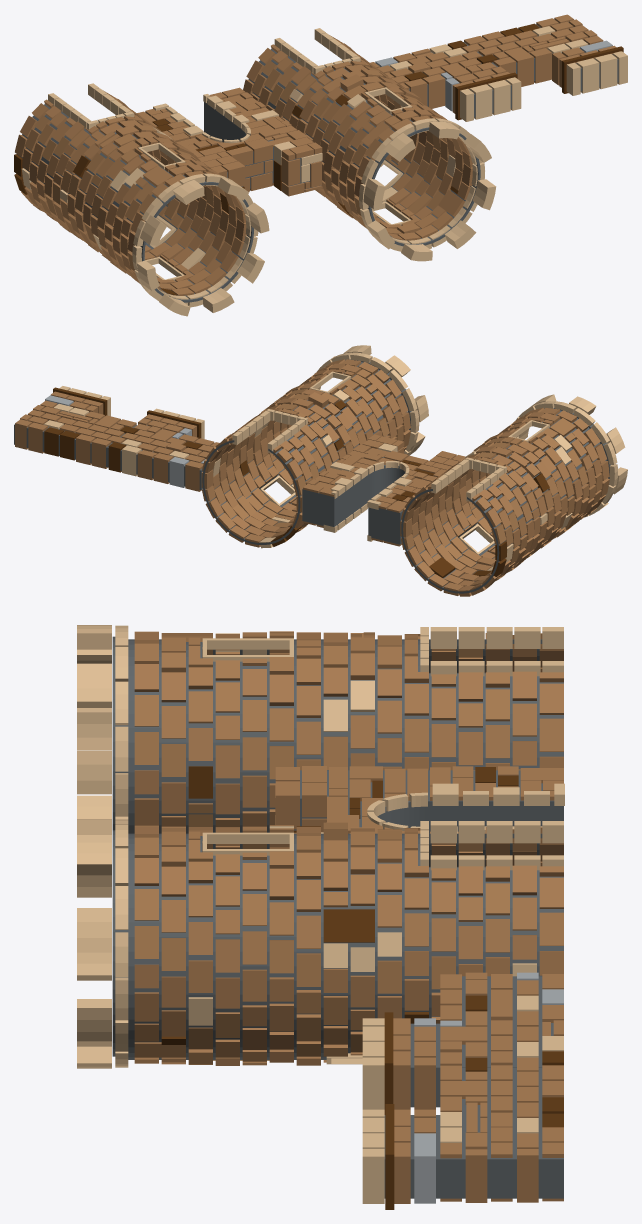
The model's file is tinker.obj.
3 views of the same model, one above another, from view 1: azimuth 30°, elevation 25°; view 2: azimuth 150°, elevation 25°; view 3: azimuth 270°, elevation 25° (orthographic). The views are drawn at different scales.
Visible parts, largest first — view 1: group_0_11107152, group_0_14860437, group_0_6383466, group_0_6306067, group_0_10988977; view 2: group_0_11107152, group_0_14860437, group_0_6383466, group_0_6306067, group_0_10988977; view 3: group_0_11107152, group_0_14860437, group_0_6383466, group_0_6306067, group_0_10988977.
Boxes of the visible parts, x1,y1,x2,y2 form: group_0_11107152: (15,14,619,295); group_0_14860437: (21,26,627,316); group_0_6383466: (17,22,618,302); group_0_6306067: (14,23,623,295); group_0_10988977: (375,40,612,111); group_0_11107152: (15,359,609,596); group_0_14860437: (44,345,627,570); group_0_6383466: (14,359,610,593); group_0_6306067: (44,387,549,577); group_0_10988977: (45,395,205,487); group_0_11107152: (134,631,563,1203); group_0_14860437: (77,625,564,1203); group_0_6383466: (112,636,563,1198); group_0_6306067: (161,766,563,1209); group_0_10988977: (414,972,563,1203).
Bounding box in the file's own units: 131 × 28.79 × 56.
